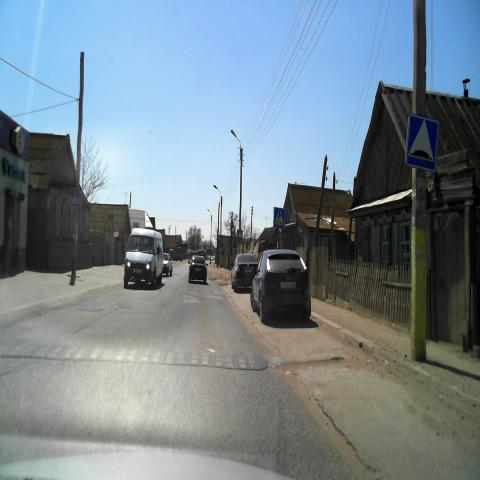5_20: (407, 115, 439, 173)
